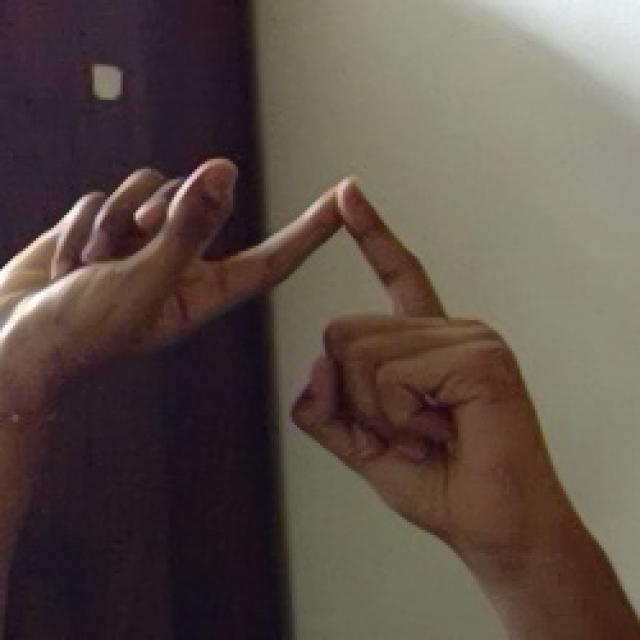Alphabet-E: (0, 159, 640, 640)
